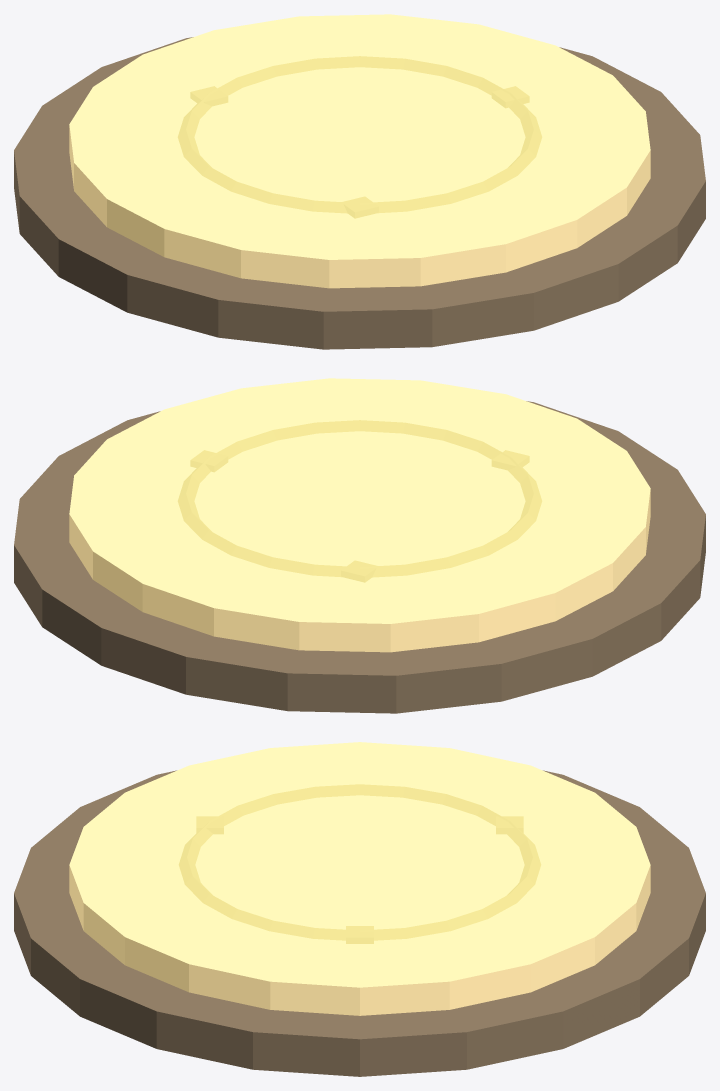
Rendered from MudPoolResonancePad.fbx.
The picture shows the model from 3 angles, top to bottom: view 1: azimuth 30°, elevation 25°; view 2: azimuth 150°, elevation 25°; view 3: azimuth 270°, elevation 25°; orthographic projection.
Parts seen in each view (by area): view 1: MudPoolResonancePad; view 2: MudPoolResonancePad; view 3: MudPoolResonancePad.
Boxes of the visible parts, bbox=[...] form: MudPoolResonancePad: bbox=[14, 14, 705, 349]; MudPoolResonancePad: bbox=[14, 378, 705, 713]; MudPoolResonancePad: bbox=[14, 742, 705, 1076].
Bounding box in the file's own units: 100 × 11.7 × 100.
